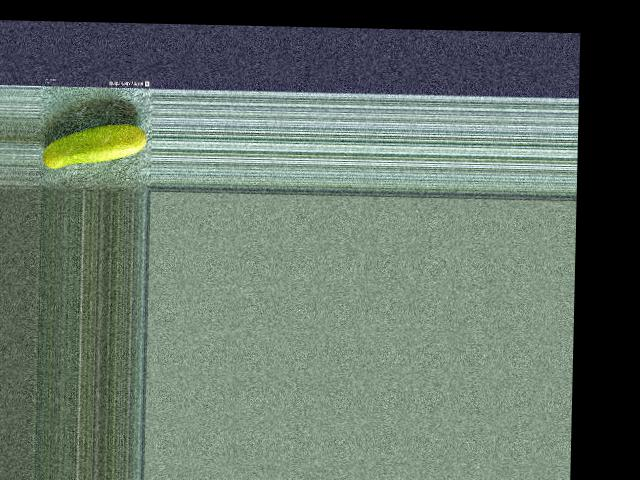cucumber: (41, 122, 146, 170)
